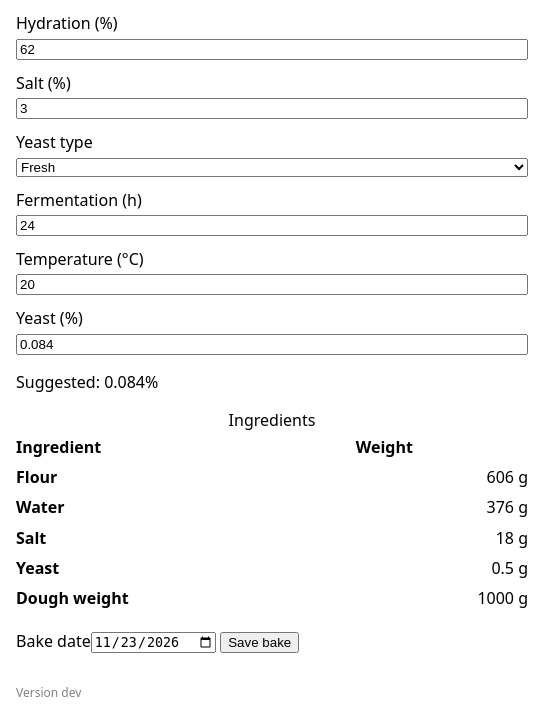
Test case: App › doesn't save a Bake without a bake date
The width and height of the screenshot is (545, 714).
(page scrolled)
Clear the date field labelled "Bake date": [153, 642] box x1=91 y1=632 x2=216 y2=653
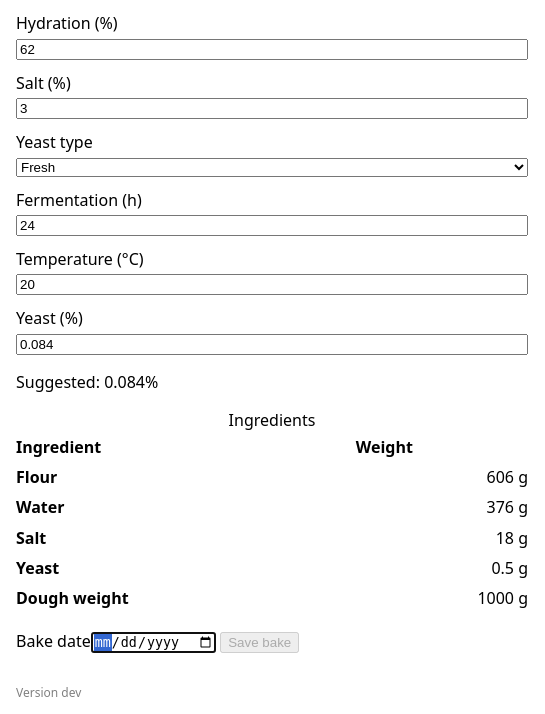
Check: the button "Save bake" is disabled, box x1=220 y1=632 x2=299 y2=653
